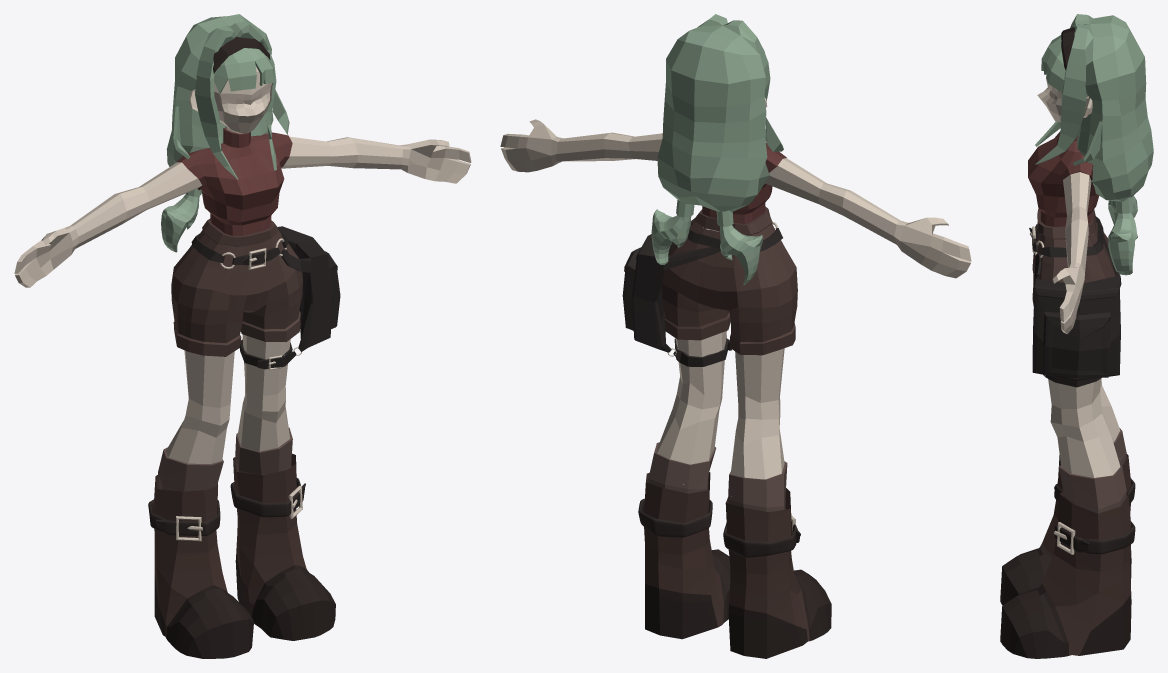
File: blocking zita COLOR1full.fbx
The picture shows the model from 3 angles, left to right: view 1: azimuth 30°, elevation 25°; view 2: azimuth 150°, elevation 25°; view 3: azimuth 270°, elevation 25°; orthographic projection. The views are drawn at different scales.
Parts seen in each view (by area): view 1: Cube.008; view 2: Cube.008; view 3: Cube.008.
Boxes of the visible parts, <box> form: Cube.008: <box>14,14,471,658</box>; Cube.008: <box>500,14,971,658</box>; Cube.008: <box>1000,14,1153,658</box>.
Size of the model in its own units: 292 by 363 by 83.84.
1 material, 1 textured.
